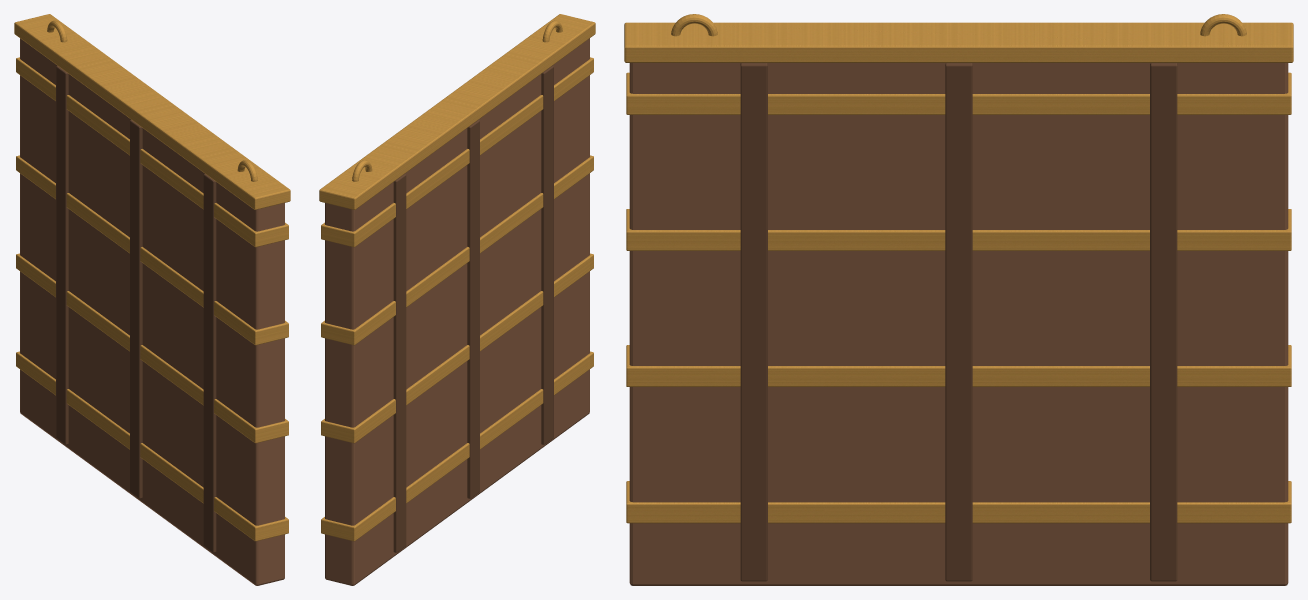
The model's file is act3_lock_gate.glb.
3 renders of one model, left to right at view 1: azimuth 30°, elevation 25°; view 2: azimuth 150°, elevation 25°; view 3: azimuth 270°, elevation 25°, orthographic. The views are drawn at different scales.
Parts seen in each view (by area): view 1: SM_Act3_LockGate_Mesh; view 2: SM_Act3_LockGate_Mesh; view 3: SM_Act3_LockGate_Mesh.
Part boxes in pixels (box(x1,y1,x2,y2)): SM_Act3_LockGate_Mesh: box(14, 14, 290, 585); SM_Act3_LockGate_Mesh: box(319, 14, 595, 585); SM_Act3_LockGate_Mesh: box(624, 14, 1293, 585).
Size of the model in its own units: 0.3401 by 3.64 by 3.92.
Materials: 3 (1 with a texture image).
